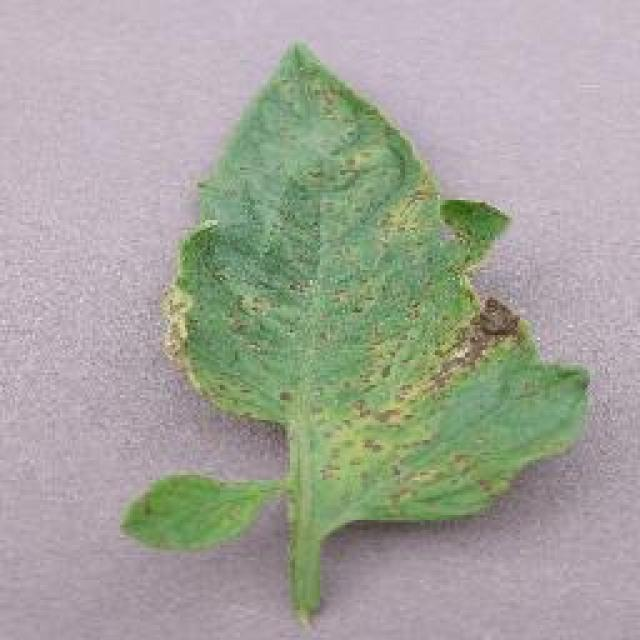Tomato Septoria spot leaf: (168, 41, 594, 522)
